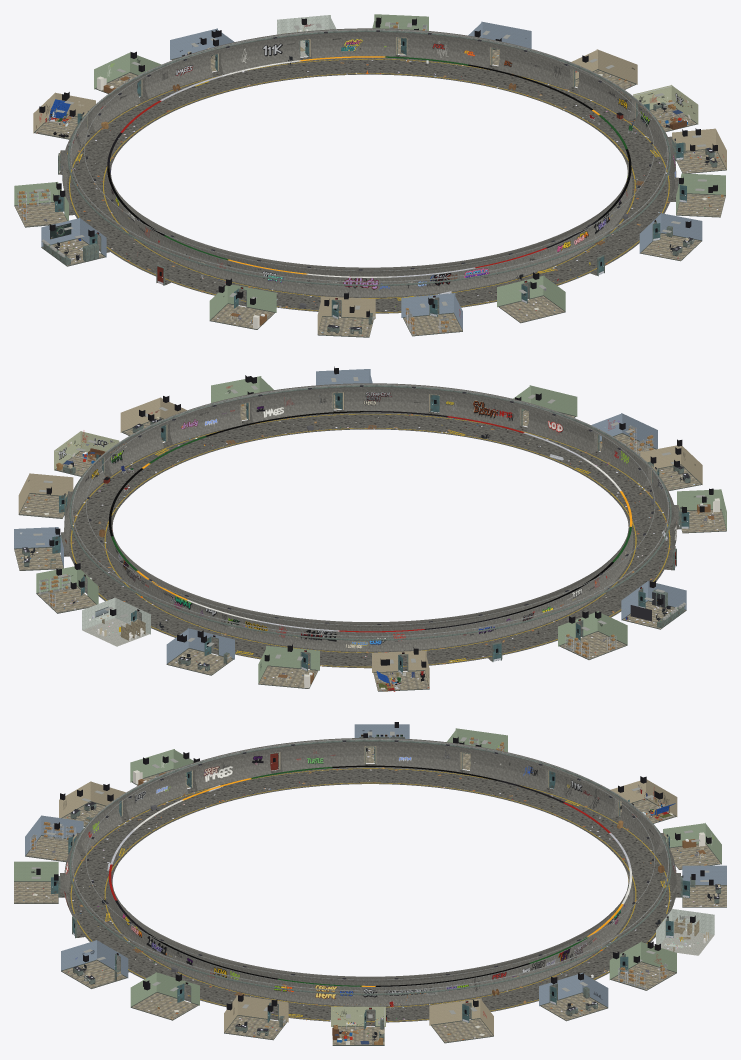
Rendered from world.glb.
The picture shows the model from 3 angles, top to bottom: view 1: azimuth 30°, elevation 25°; view 2: azimuth 150°, elevation 25°; view 3: azimuth 270°, elevation 25°; orthographic projection.
Parts seen in each view (by area): view 1: tunnel_lining#3, tunnel_lining#2, tunnel_lining#10, tunnel_lining#4, tunnel_lining#11, tunnel_lining#1, tunnel_lining#12, tunnel_lining#9, tunnel_floor#3, tunnel_floor#2, tunnel_floor#4, tunnel_lining#5 (+54 smaller); view 2: tunnel_lining#13, tunnel_lining#6, tunnel_lining#14, tunnel_lining#5, tunnel_lining#15, tunnel_lining#12, tunnel_lining#4, tunnel_lining#7, tunnel_floor#13, tunnel_floor#14, tunnel_floor#15, tunnel_lining#11 (+56 smaller); view 3: tunnel_lining#8, tunnel_lining#7, tunnel_lining#9, tunnel_lining#0, tunnel_lining#15, tunnel_lining#1, tunnel_lining#6, tunnel_lining#10, tunnel_floor#8, tunnel_floor#6, tunnel_floor#7, tunnel_lining#14 (+57 smaller).
Boxes of the visible parts, <box> form: tunnel_lining#3: <box>270,28,389,63</box>; tunnel_lining#2: <box>389,28,504,71</box>; tunnel_lining#10: <box>237,256,352,303</box>; tunnel_lining#4: <box>167,35,273,89</box>; tunnel_lining#11: <box>351,261,455,310</box>; tunnel_lining#1: <box>500,41,600,101</box>; tunnel_lining#12: <box>452,240,545,297</box>; tunnel_lining#9: <box>156,229,254,285</box>; tunnel_floor#3: <box>273,57,388,80</box>; tunnel_floor#2: <box>386,55,502,85</box>; tunnel_floor#4: <box>170,65,284,102</box>; tunnel_lining#5: <box>94,60,172,128</box>; tunnel_lining#13: <box>350,383,468,418</box>; tunnel_lining#6: <box>387,610,502,658</box>; tunnel_lining#14: <box>235,383,350,425</box>; tunnel_lining#5: <box>284,616,387,651</box>; tunnel_lining#15: <box>140,396,239,456</box>; tunnel_lining#12: <box>465,390,572,444</box>; tunnel_lining#4: <box>194,594,287,651</box>; tunnel_lining#7: <box>484,584,581,639</box>; tunnel_floor#13: <box>351,411,466,435</box>; tunnel_floor#14: <box>237,410,353,440</box>; tunnel_floor#15: <box>144,426,253,467</box>; tunnel_lining#11: <box>565,414,645,483</box>; tunnel_lining#8: <box>310,738,430,769</box>; tunnel_lining#7: <box>428,740,540,788</box>; tunnel_lining#9: <box>200,740,312,788</box>; tunnel_lining#0: <box>318,974,422,1006</box>; tunnel_lining#15: <box>222,958,319,1016</box>; tunnel_lining#1: <box>421,958,518,1016</box>; tunnel_lining#6: <box>534,759,625,820</box>; tunnel_lining#10: <box>115,759,206,823</box>; tunnel_floor#8: <box>311,764,429,786</box>; tunnel_floor#6: <box>517,787,619,833</box>; tunnel_floor#7: <box>422,769,537,802</box>; tunnel_lining#14: <box>116,928,226,998</box>.
Size of the model in its own units: 96.32 by 5.5 by 95.95.
Materials: 55 (55 with a texture image).
